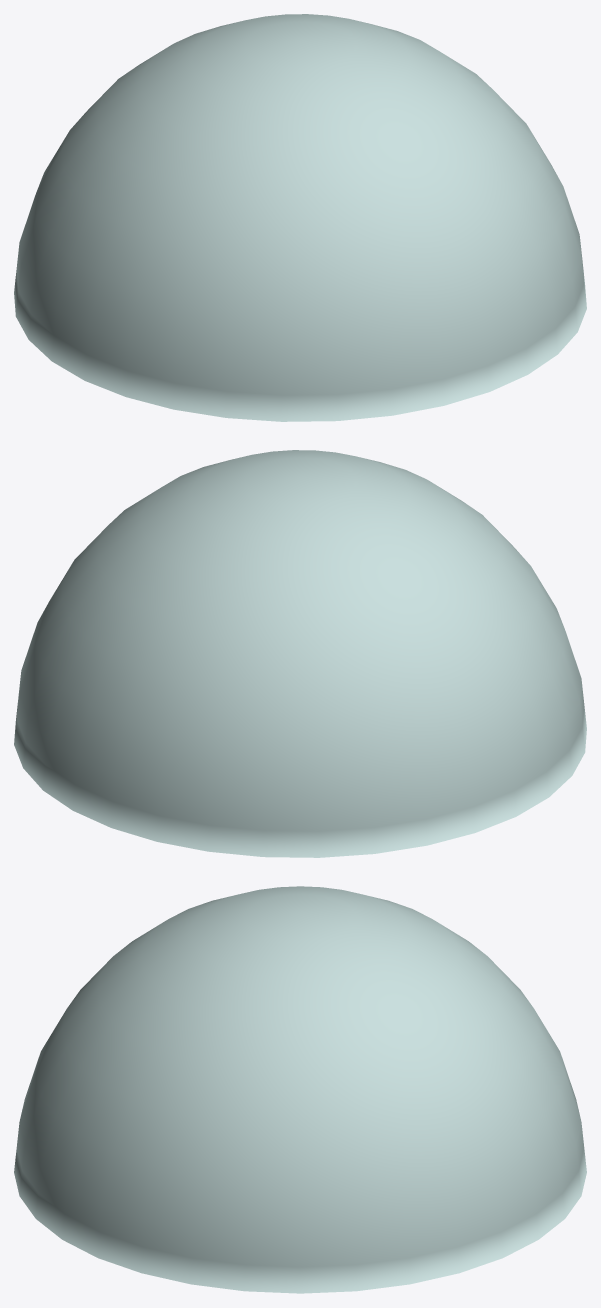
File: FountainStageBase 1.fbx
3 views of the same model, one above another, from view 1: azimuth 30°, elevation 25°; view 2: azimuth 150°, elevation 25°; view 3: azimuth 270°, elevation 25° (orthographic).
Visible parts, largest first — view 1: Base; view 2: Base; view 3: Base.
Boxes of the visible parts, x1,y1,x2,y2 form: Base: (14, 14, 586, 421); Base: (14, 450, 586, 857); Base: (14, 886, 586, 1293).
Bounding box in the file's own units: 4196 × 2098 × 4196.
